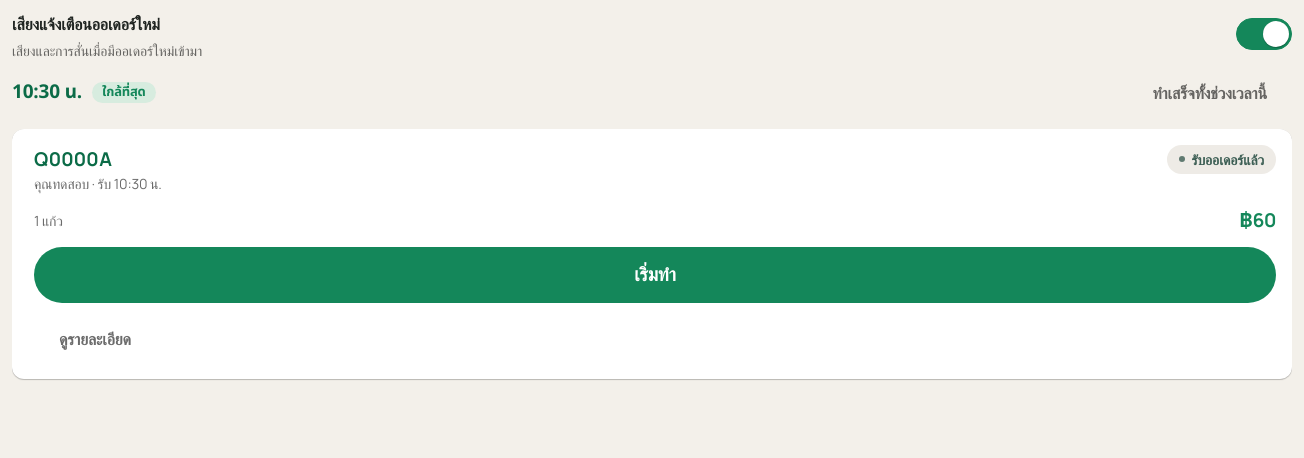
it: WBS 5.9 — InboxClient: bulk 'ทำเสร็จทั้งช่วงเวลานี้' partial failure is reported per order, honestly › bulk button label is the exact WBS copy, and a TOTAL failure (request itself failed) shows the distinct total-failure message, not the per-order one
Click the button with test id "bulk-ready-button" at (1210, 92), box [1127, 68, 1292, 116]
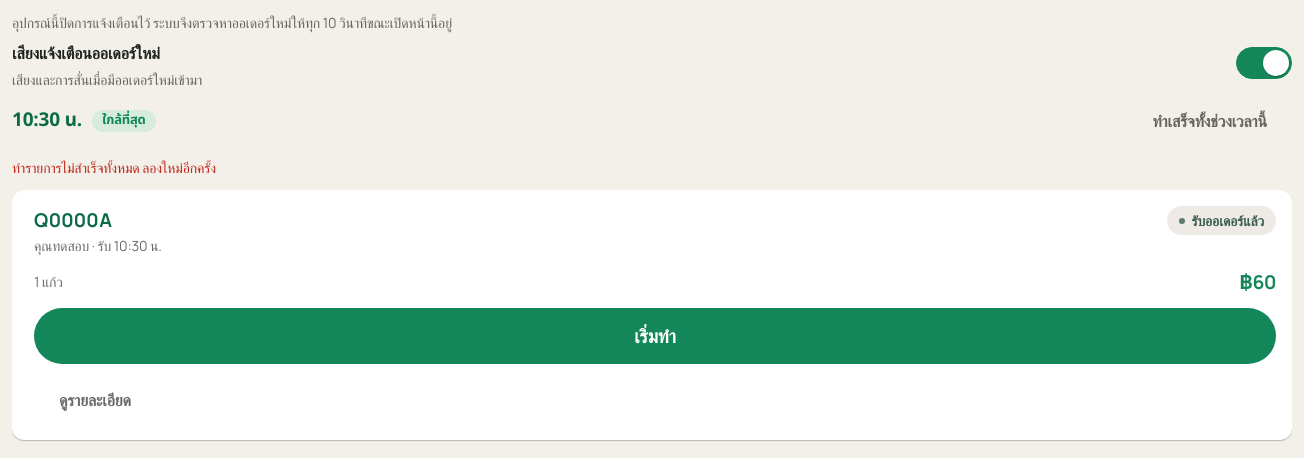
Expected: the text "รับออเดอร์แล้ว" is shown, [1167, 206, 1276, 235]
Expected: the message with test id "bulk-ready-result" reads "ทำรายการไม่สำเร็จทั้งหมด ลองใหม่อีกครั้ง", [12, 158, 216, 177]
